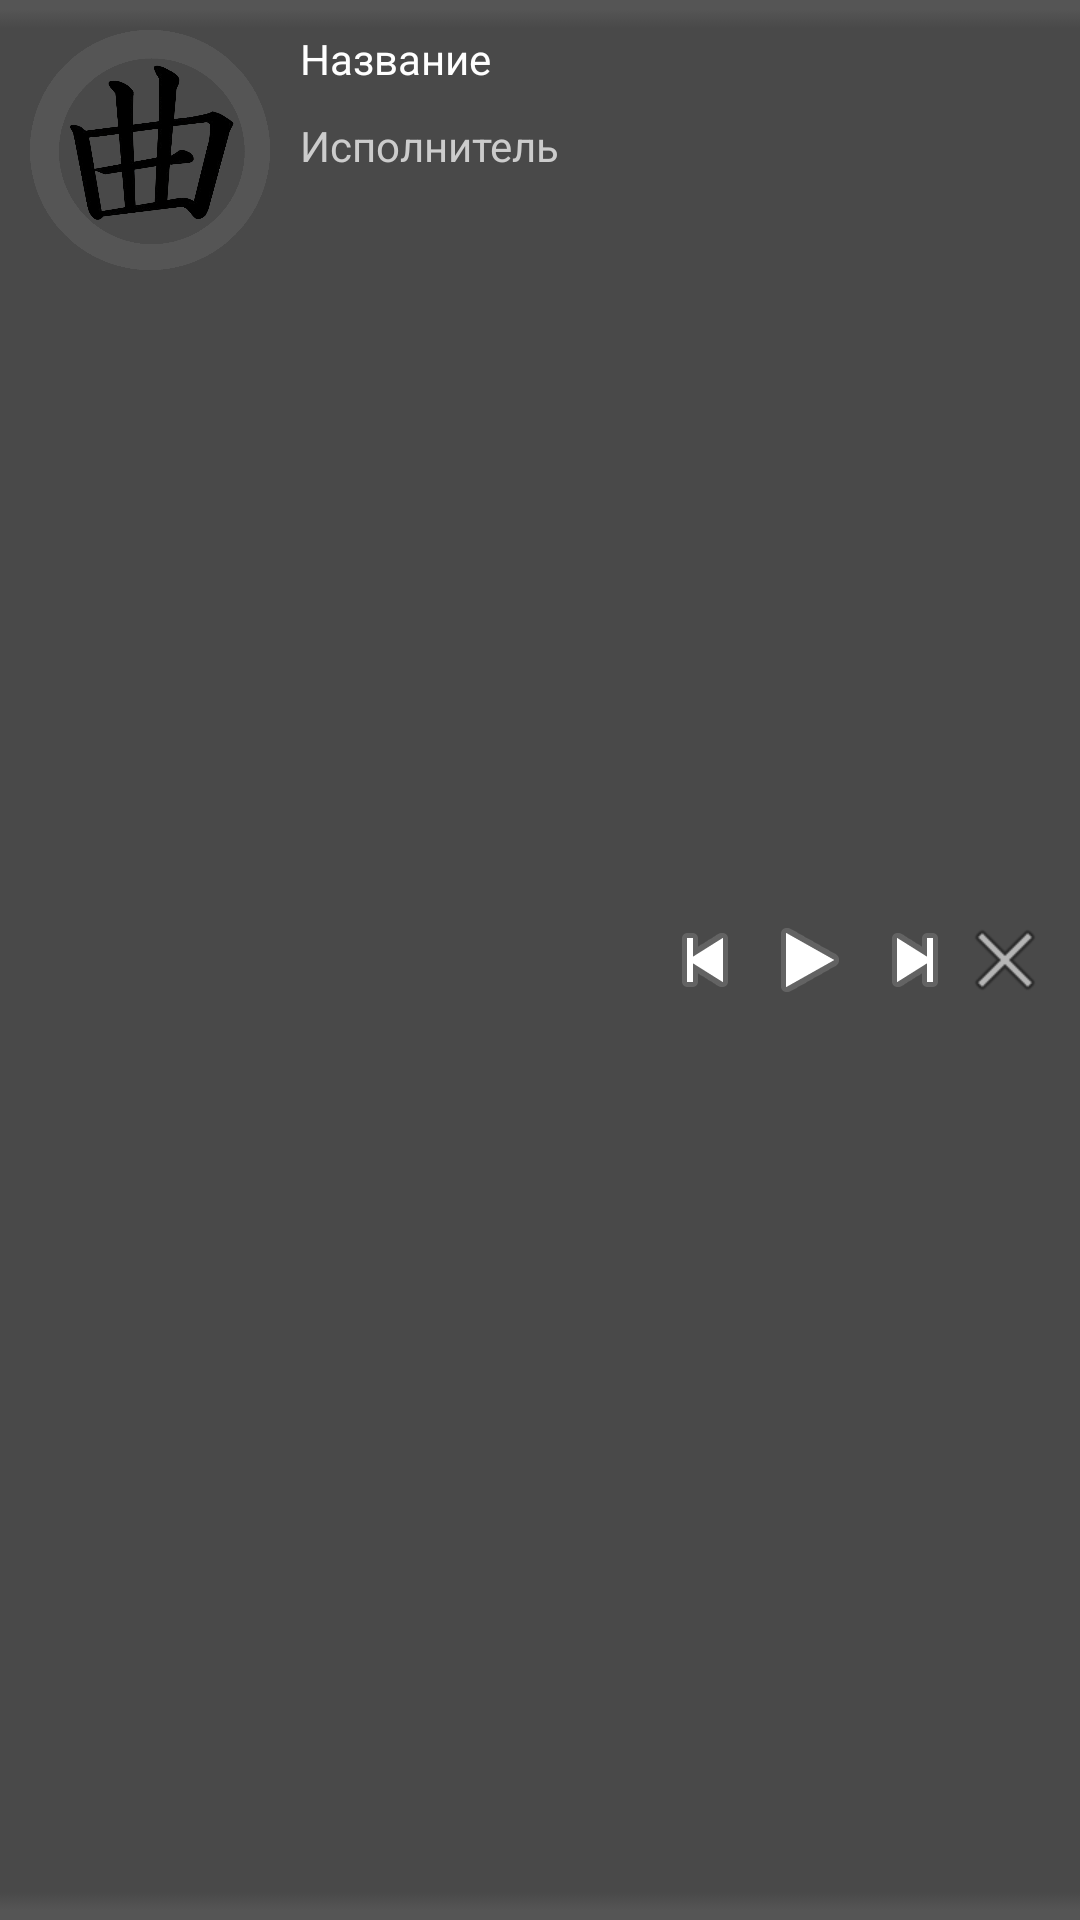

Icon bounding boxes for this 1080 × 1920 phone screenshot, format (x1, y1, x2, y2):
close clear cancel: (976, 931, 1034, 989)
next: (892, 933, 938, 987)
play: (781, 928, 839, 992)
previous: (682, 933, 728, 987)
